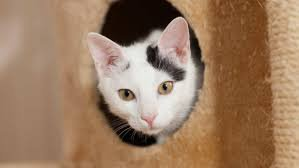cat: (83, 18, 213, 141)
